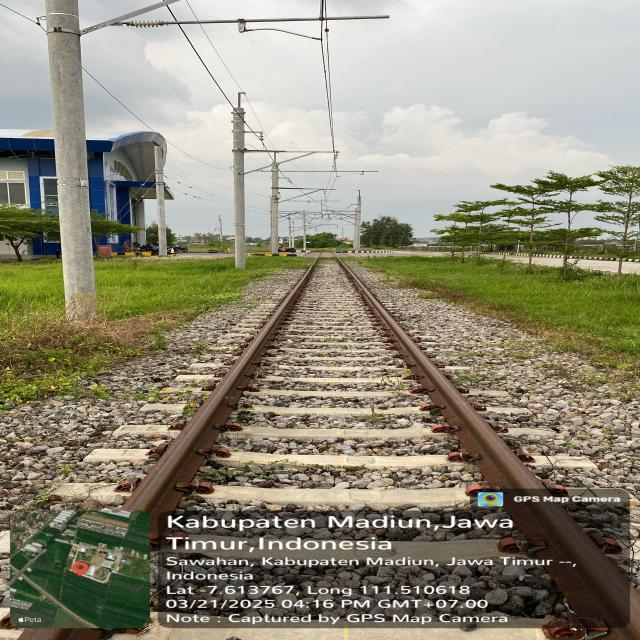rail-detection: (339, 261, 634, 627), (122, 267, 312, 537), (193, 418, 200, 423)
